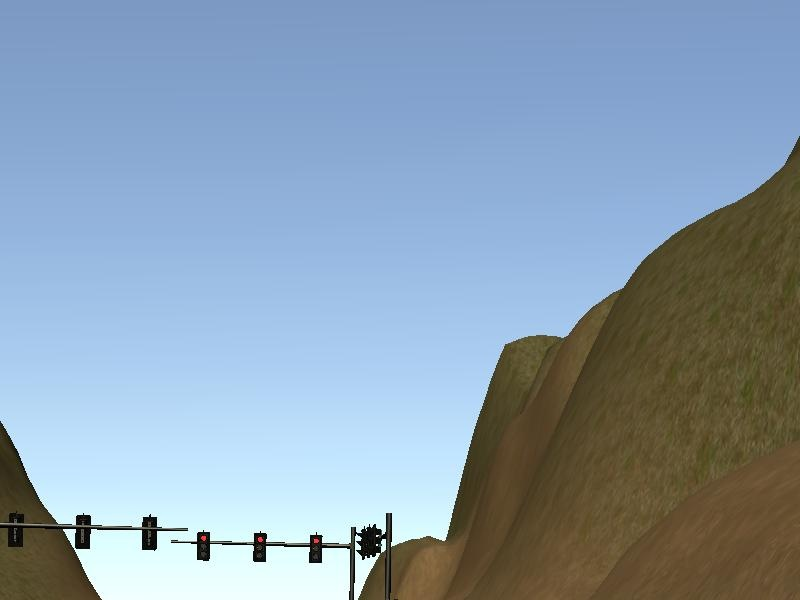red: (254, 531, 267, 566), (196, 530, 209, 563), (309, 537, 320, 562)
